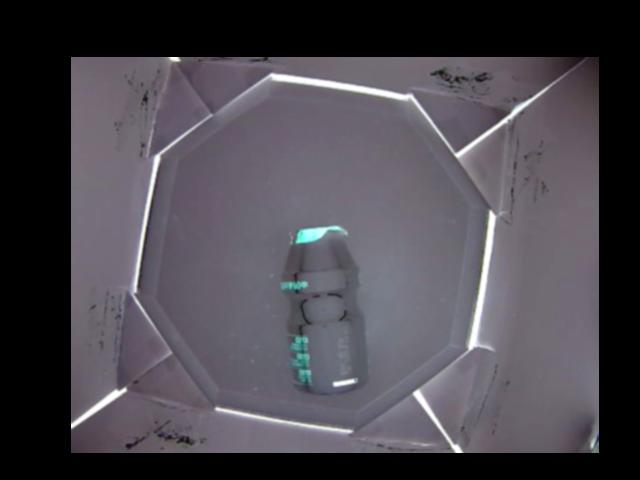Bottle: (278, 226, 372, 394)
